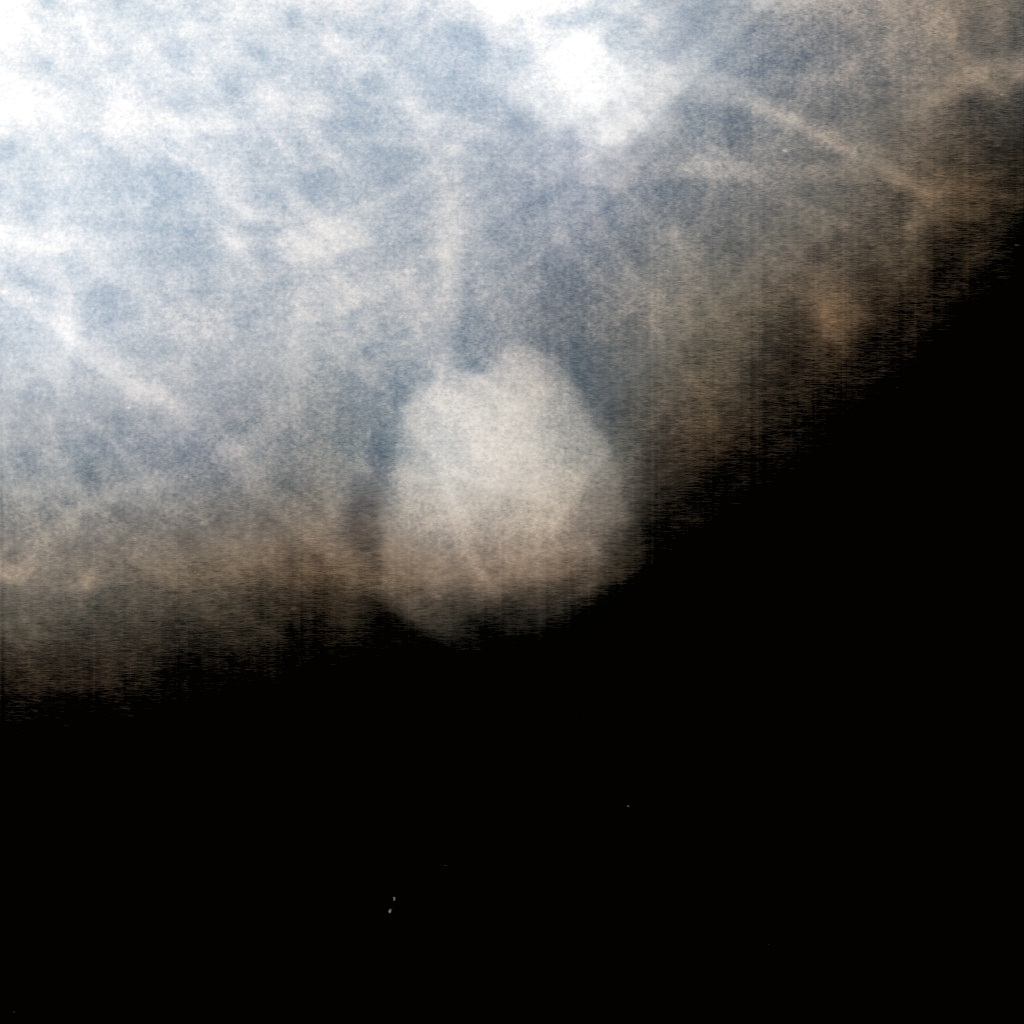tumor: (379, 382, 645, 642)
